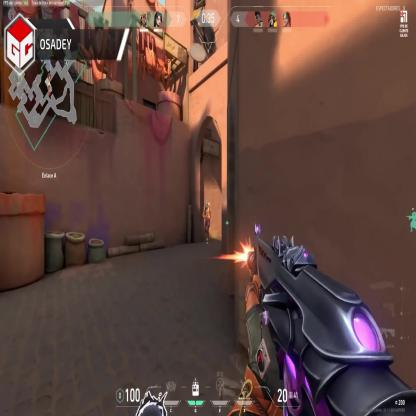enemy: (203, 203, 211, 244)
enemy_head: (206, 203, 209, 208)
